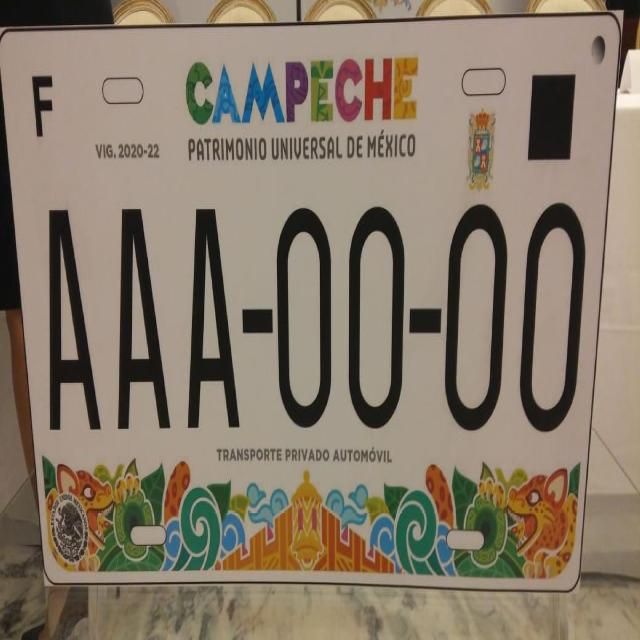placa: (17, 173, 597, 452)
